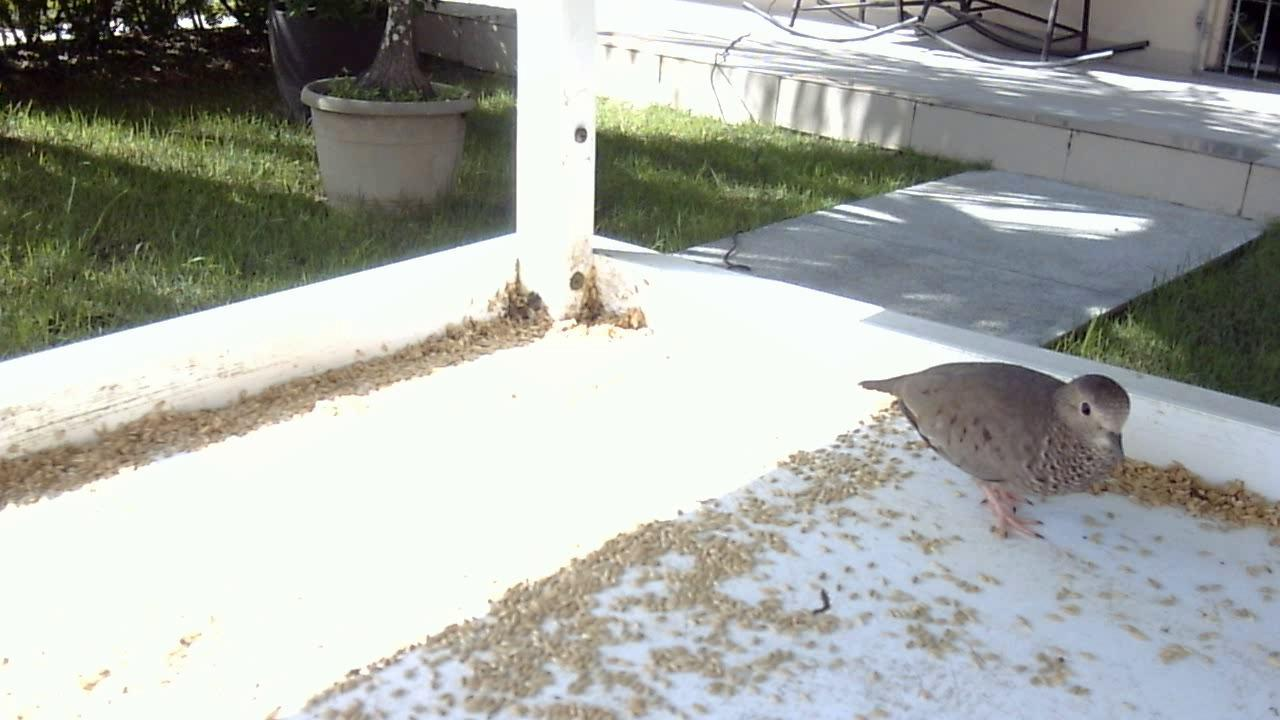rolinha: (855, 349, 1139, 559)
